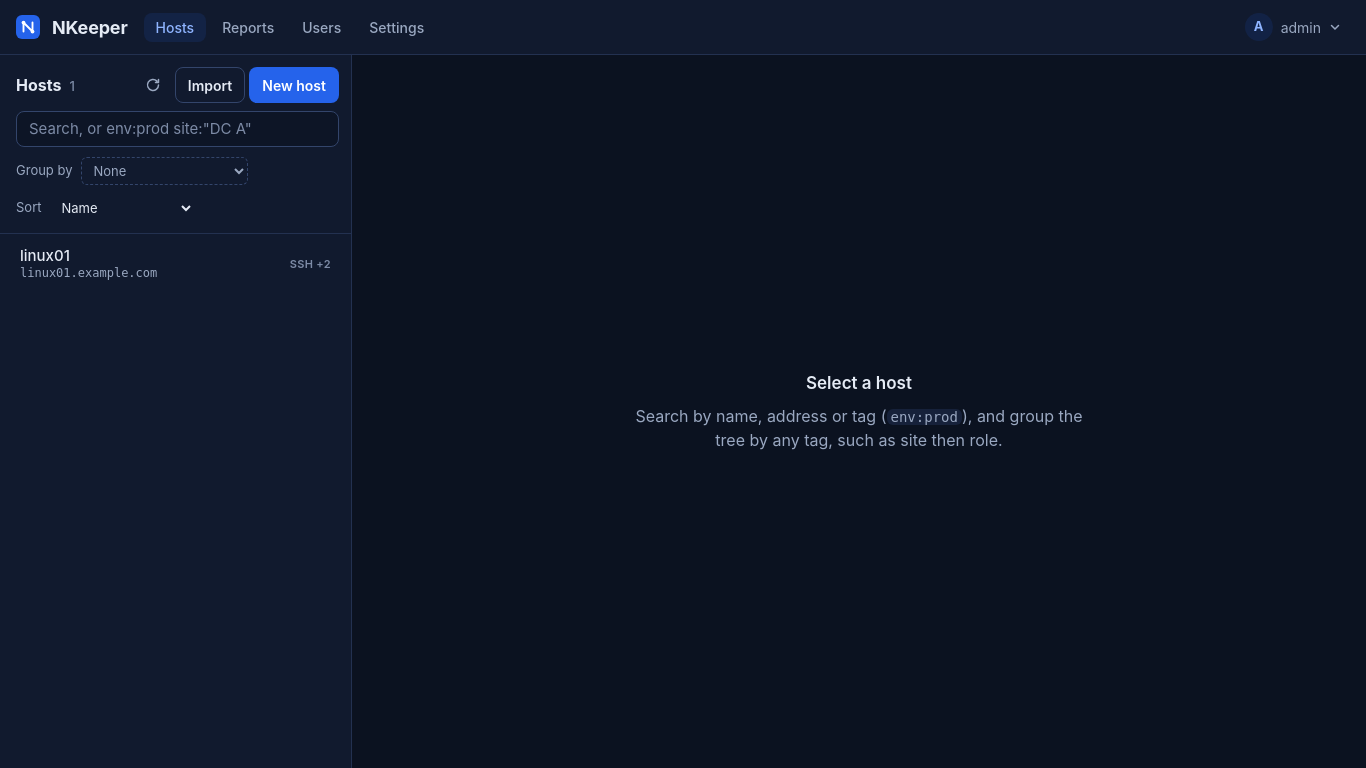
host context menu › reports a lost connection
Double-click the button "linux01 linux01.example.com SSH +2" at {"x": 45, "y": 256}, box [8,242,343,286]
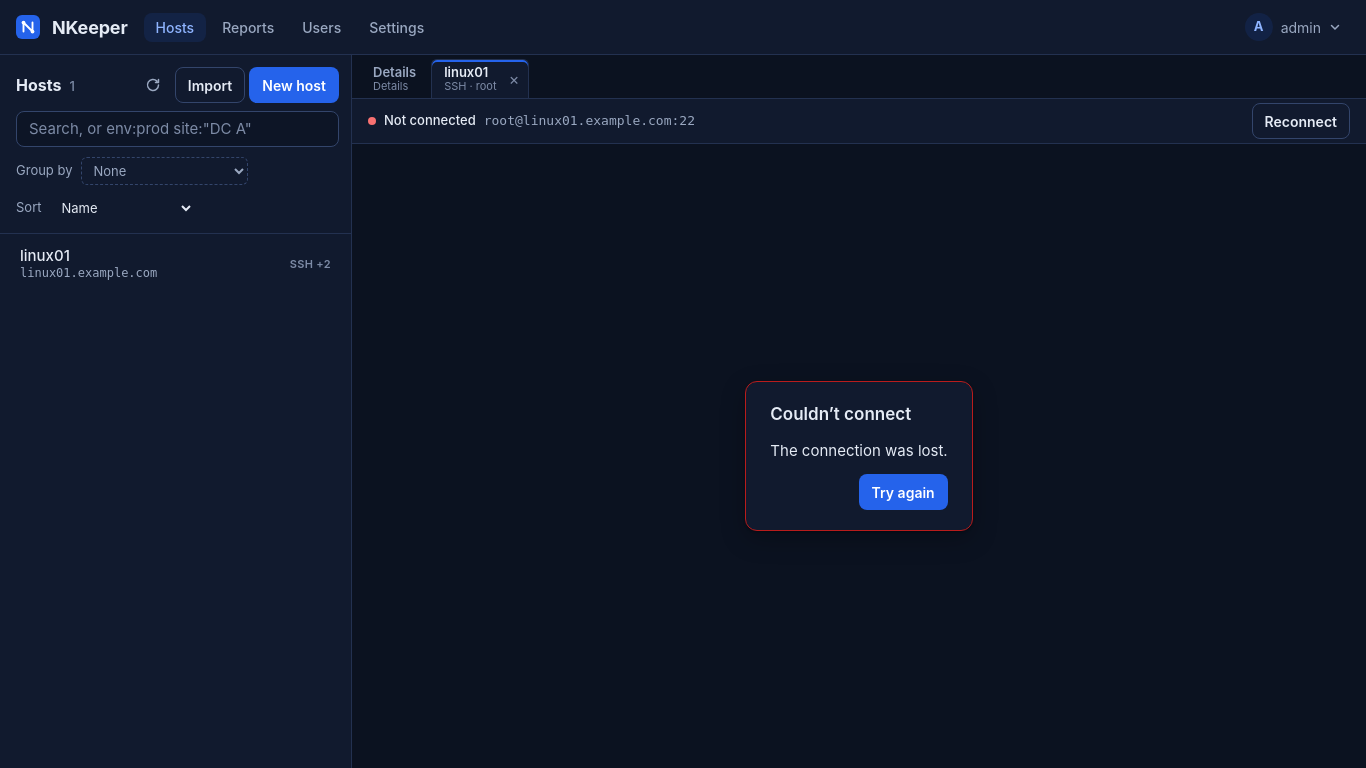
Expected: the message "Couldn’t connect The connection was lost. Try again" is shown, [745,381,973,531]
